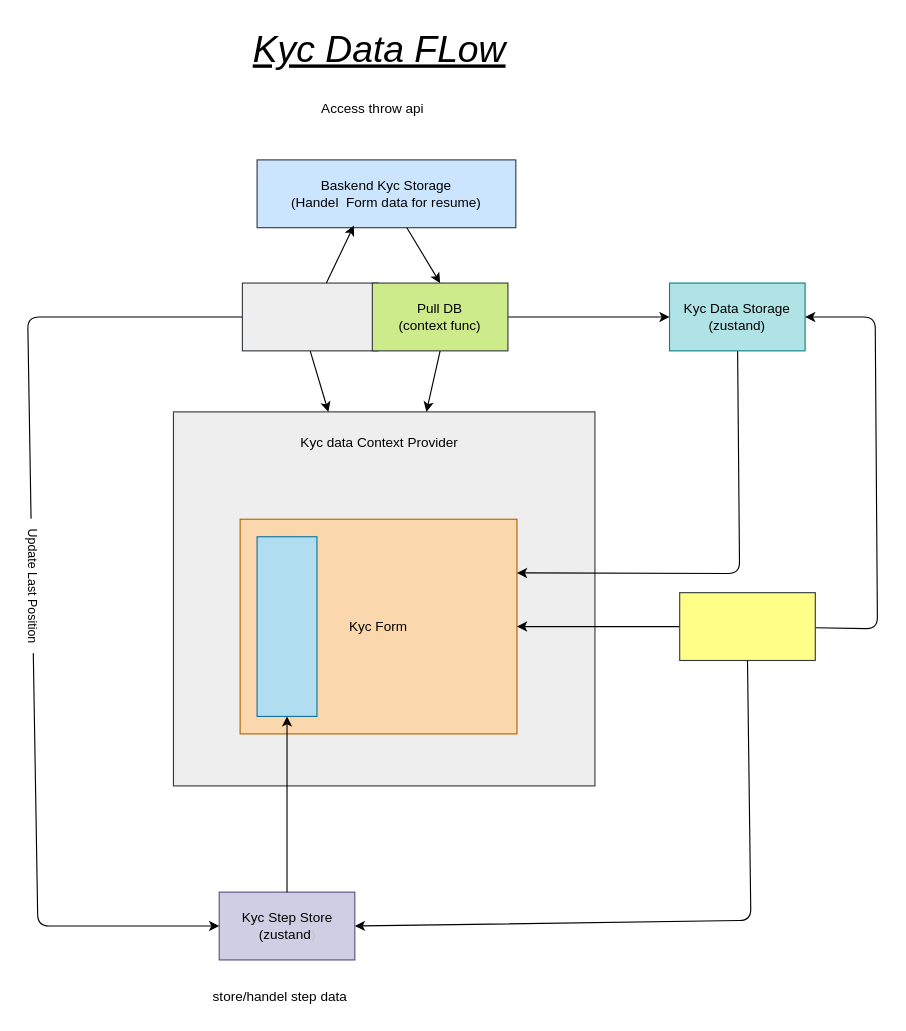
Some shapes in this 906 by 1031 pixel diagram are drawn without their labels. The shapes that lost their labels are listed below. From the top down, each one's centre as x and y in pixels, then its label:
At (309,316): "Push DB (context func)".
At (286,626): "Kyc Steps".
At (747,626): "useFomFlow (custom hook)".
